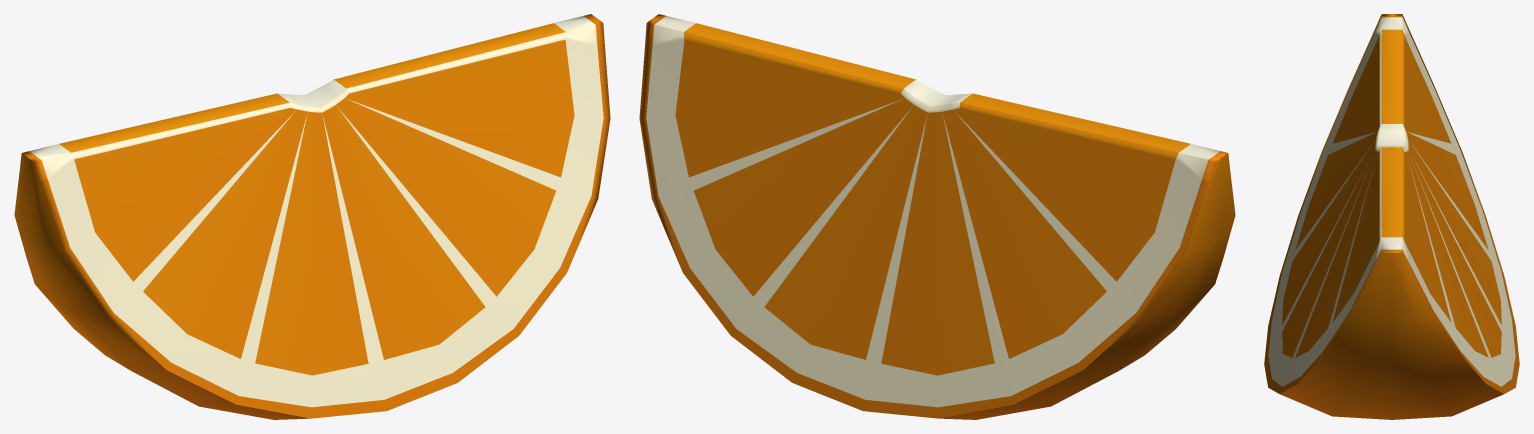
File: Orange_Sliced.fbx
3 renders of one model, left to right at view 1: azimuth 30°, elevation 25°; view 2: azimuth 150°, elevation 25°; view 3: azimuth 270°, elevation 25°, orthographic. The views are drawn at different scales.
Parts seen in each view (by area): view 1: Orange_Sliced; view 2: Orange_Sliced; view 3: Orange_Sliced.
Part boxes in pixels (x1,y1,x2,y2): Orange_Sliced: (14, 14, 610, 419); Orange_Sliced: (639, 14, 1235, 419); Orange_Sliced: (1264, 14, 1519, 419).
Size of the model in its own units: 23.48 by 11.79 by 10.62.
